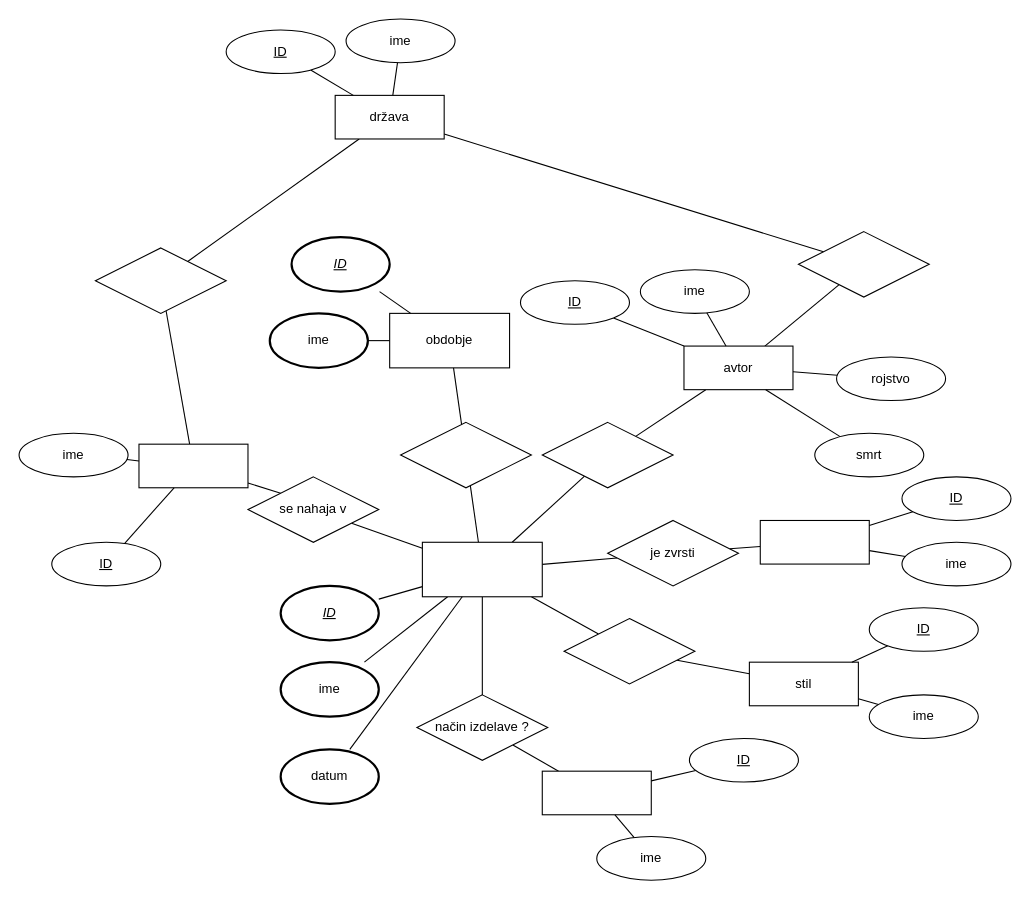
This 1030x899 diagram has some shape labels left out. Here are the shapes that lost their labels. From the top down, the box of each, then its label:
(94, 247, 226, 313): je v državi
(797, 231, 929, 297): rojen v
(138, 443, 248, 488): galerija
(399, 421, 531, 488): iz obdobja
(541, 421, 673, 488): ustvaril
(759, 519, 869, 564): zvrst
(421, 541, 542, 597): umetnina
(563, 617, 695, 684): je stila
(541, 770, 651, 815): medij
